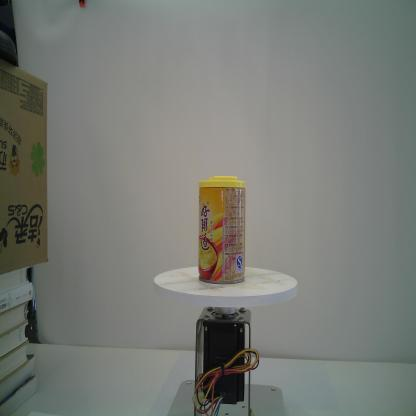Canned Food: (194, 170, 248, 289)
